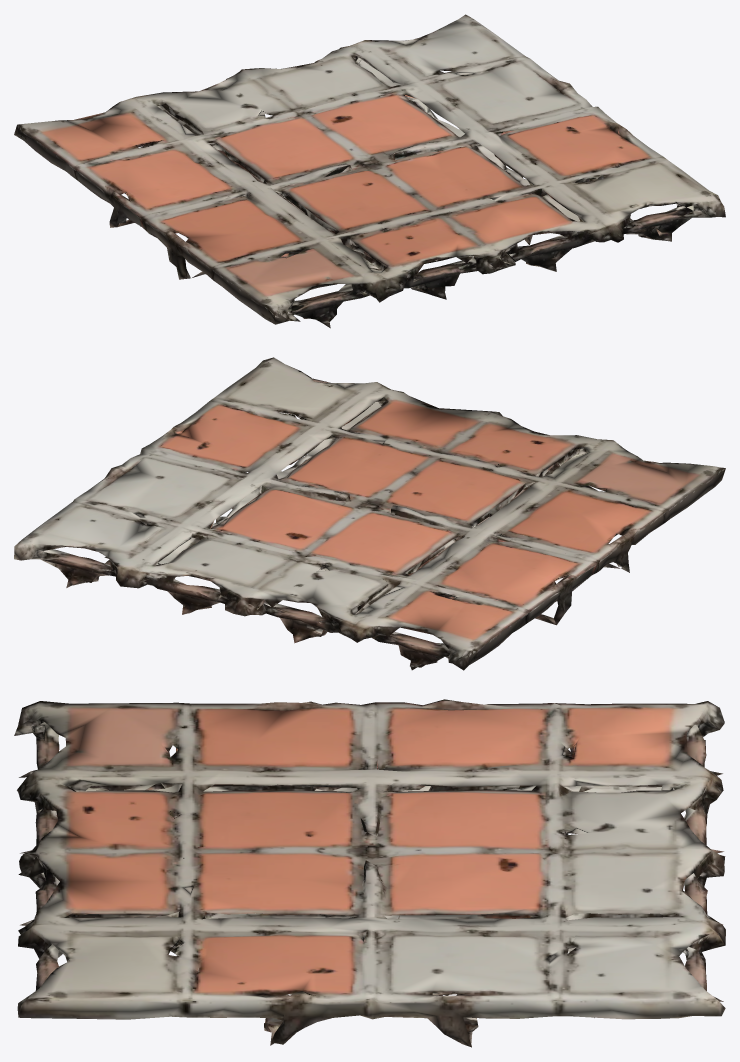
Rendered from floor-tile-optimized.glb.
3 renders of one model, top to bottom at view 1: azimuth 30°, elevation 25°; view 2: azimuth 150°, elevation 25°; view 3: azimuth 270°, elevation 25°, orthographic. The views are drawn at different scales.
Parts seen in each view (by area): view 1: Mesh1.0; view 2: Mesh1.0; view 3: Mesh1.0.
Boxes of the visible parts, box(x1,y1,x2,y2) form: Mesh1.0: box(14, 14, 725, 328); Mesh1.0: box(14, 357, 725, 670); Mesh1.0: box(14, 699, 725, 1047).
Size of the model in its own units: 1.92 by 0.176 by 1.92.
1 material, 1 textured.
